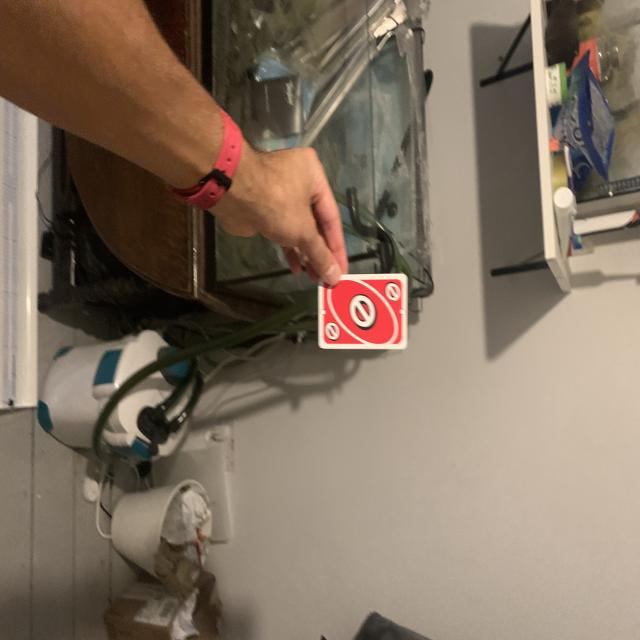lredskip-20: (381, 279, 403, 303)
